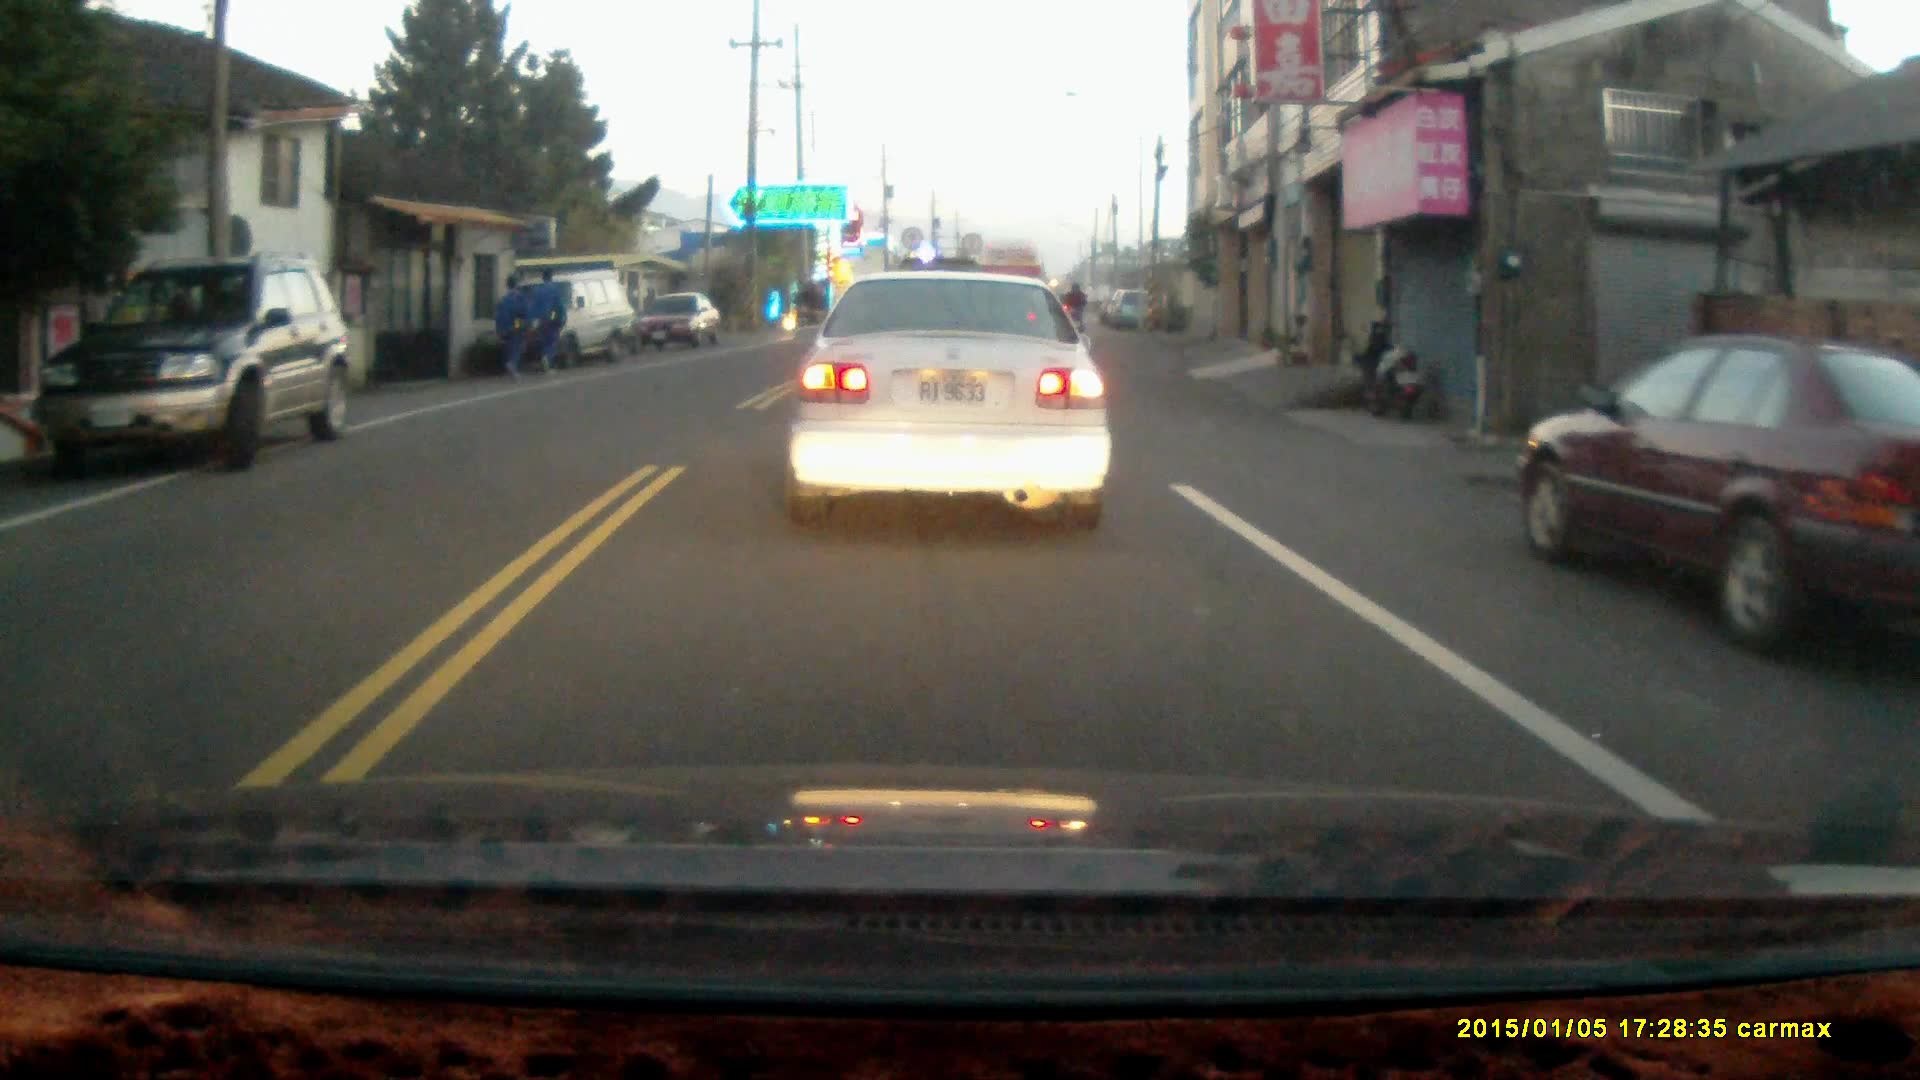pedestrian: (495, 271, 533, 386), (532, 261, 567, 375)
vehicle: (1531, 335, 1919, 658), (786, 266, 1115, 535), (39, 263, 351, 476), (511, 270, 647, 365), (628, 296, 723, 360)
